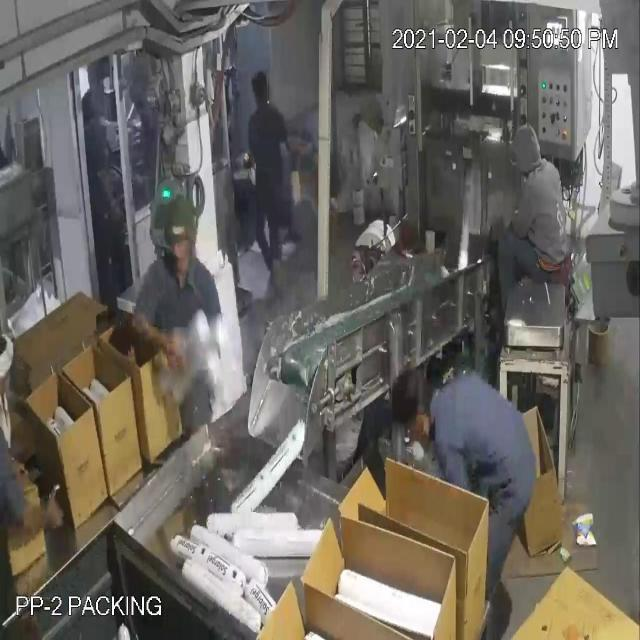No_Gloves: (39, 76, 160, 504)
